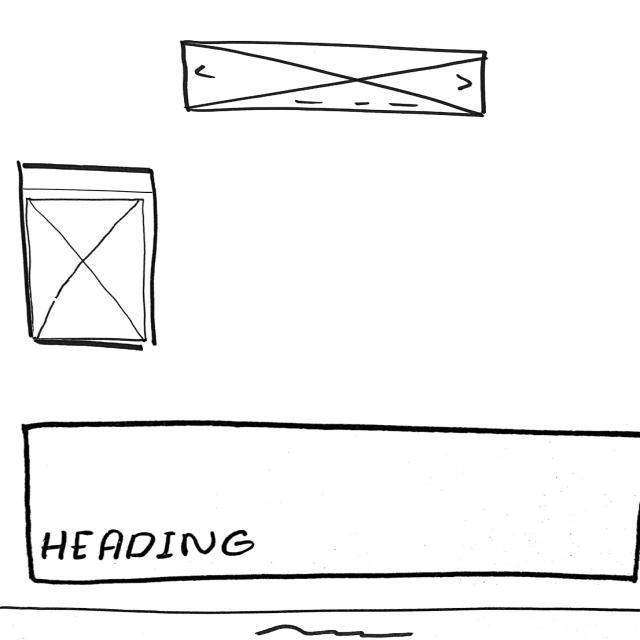container: (21, 420, 640, 584), (15, 163, 161, 351)
image: (179, 37, 493, 121), (25, 197, 149, 341)
label: (41, 528, 260, 564)
text: (252, 623, 418, 640)
